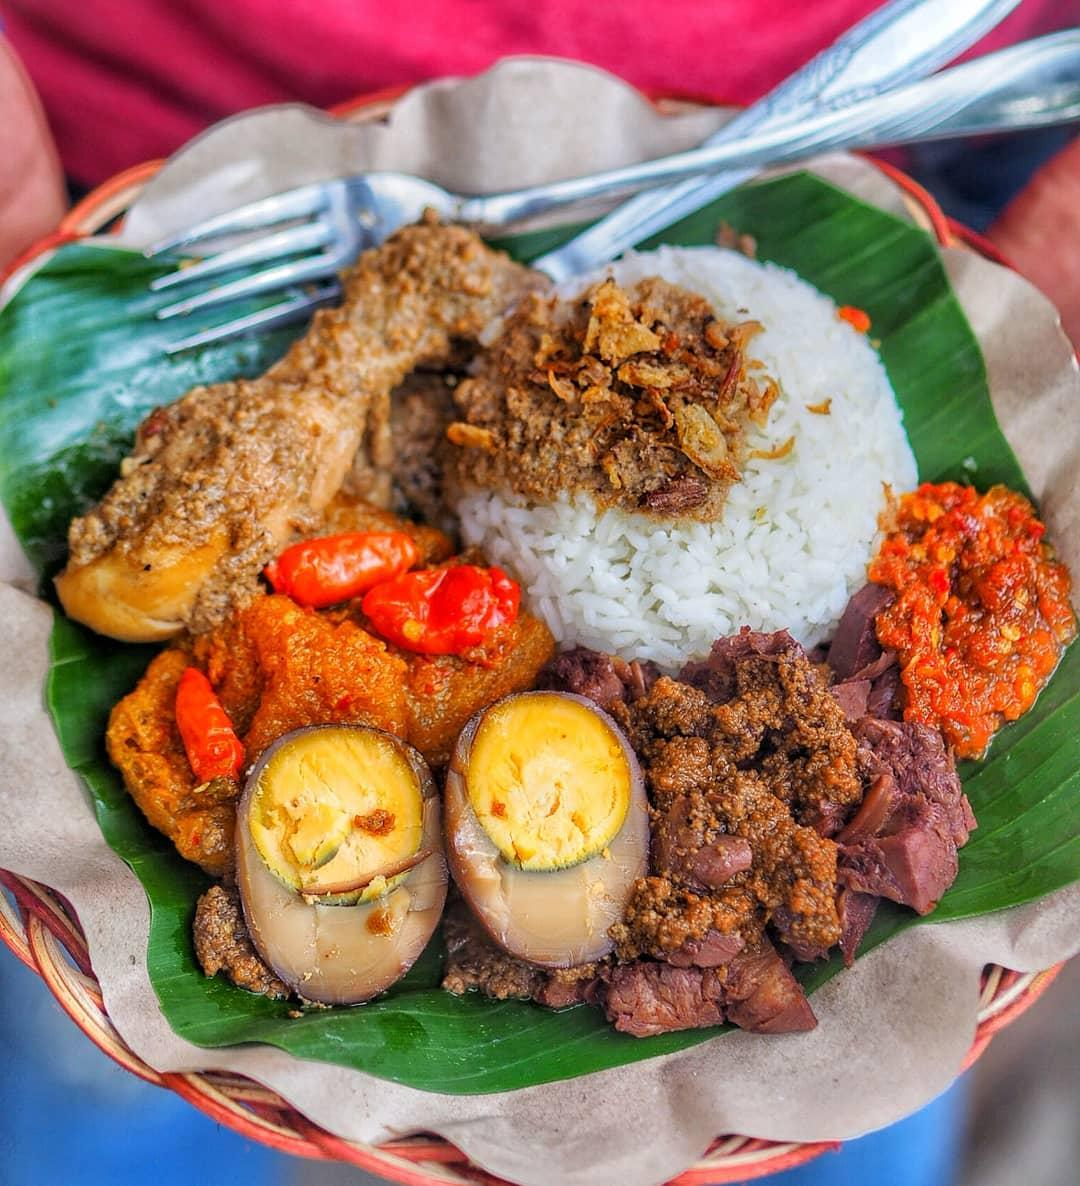gudeg: (57, 223, 1073, 1035)
